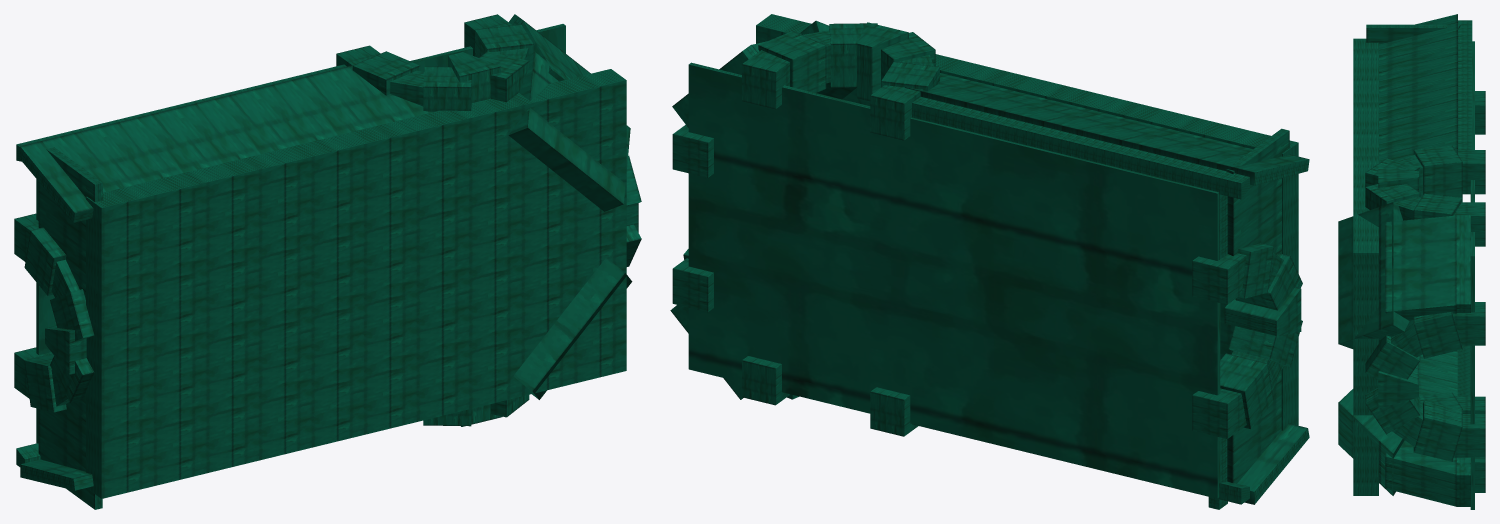
Rendered from room4dp_wtf.obj.
3 views of the same model, side by side, from view 1: azimuth 30°, elevation 25°; view 2: azimuth 150°, elevation 25°; view 3: azimuth 270°, elevation 25° (orthographic). The views are drawn at different scales.
Parts seen in each view (by area): view 1: group2; view 2: group2; view 3: group2.
Part boxes in pixels (bbox=[...]): group2: bbox=[14, 14, 641, 509]; group2: bbox=[670, 14, 1309, 509]; group2: bbox=[1338, 14, 1485, 509].
Bounding box in the file's own units: 660 × 388 × 175.
